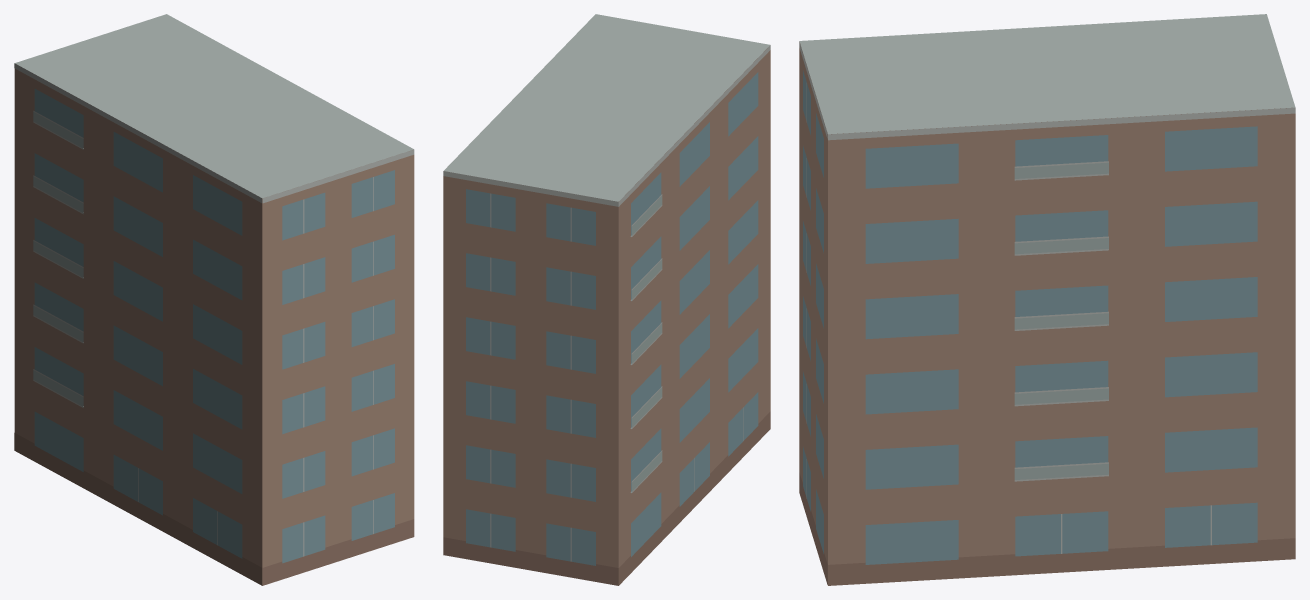
Rendered from survey-upis-32720397.glb.
3 views of the same model, side by side, from view 1: azimuth 30°, elevation 25°; view 2: azimuth 150°, elevation 25°; view 3: azimuth 270°, elevation 25° (orthographic). The views are drawn at different scales.
Parts seen in each view (by area): view 1: survey-upis-32720397.tmp; view 2: survey-upis-32720397.tmp; view 3: survey-upis-32720397.tmp.
Part boxes in pixels (x1,y1,x2,y2): survey-upis-32720397.tmp: (14, 14, 414, 585); survey-upis-32720397.tmp: (443, 14, 770, 585); survey-upis-32720397.tmp: (799, 14, 1295, 585).
Bounding box in the file's own units: 10.52 × 18.4 × 18.33.
